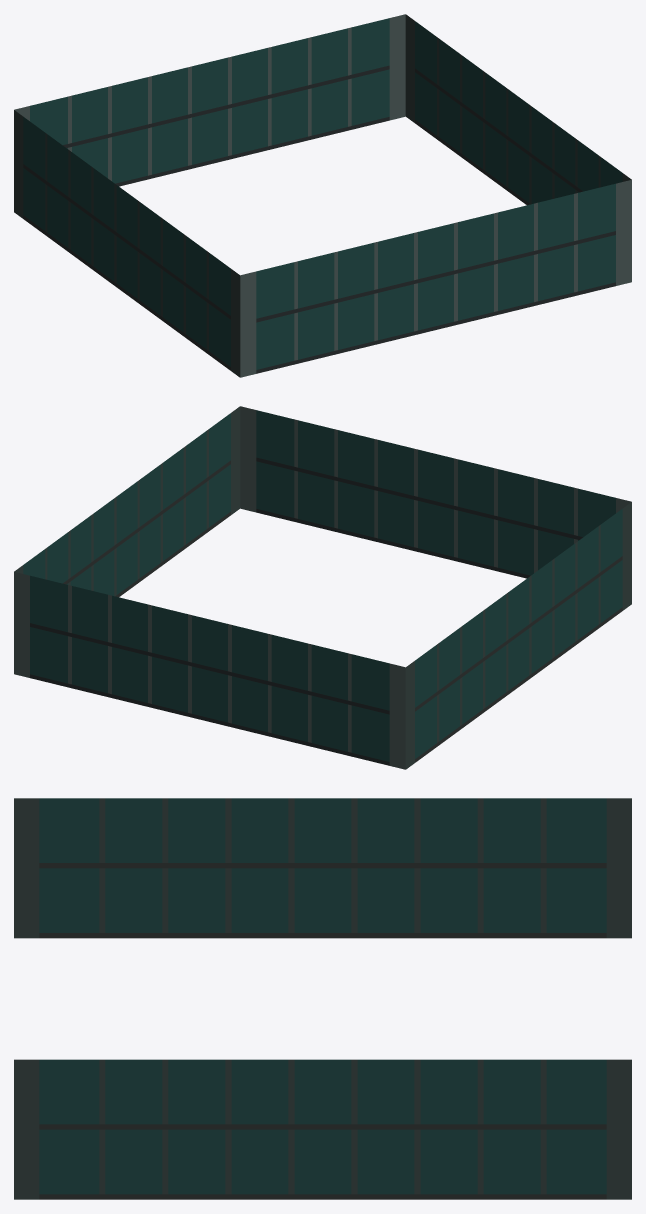
Rendered from TB_CITY_Skysc_N_LowerBodyA_Green.FBX.
3 renders of one model, top to bottom at view 1: azimuth 30°, elevation 25°; view 2: azimuth 150°, elevation 25°; view 3: azimuth 270°, elevation 25°, orthographic. The views are drawn at different scales.
Parts seen in each view (by area): view 1: TB_CITY_Skysc_N_LowerBodyA_Green; view 2: TB_CITY_Skysc_N_LowerBodyA_Green; view 3: TB_CITY_Skysc_N_LowerBodyA_Green.
Boxes of the visible parts, x1,y1,x2,y2 form: TB_CITY_Skysc_N_LowerBodyA_Green: (14, 14, 631, 377); TB_CITY_Skysc_N_LowerBodyA_Green: (14, 406, 631, 769); TB_CITY_Skysc_N_LowerBodyA_Green: (14, 798, 631, 1199).
Bounding box in the file's own units: 20 × 5 × 20.
